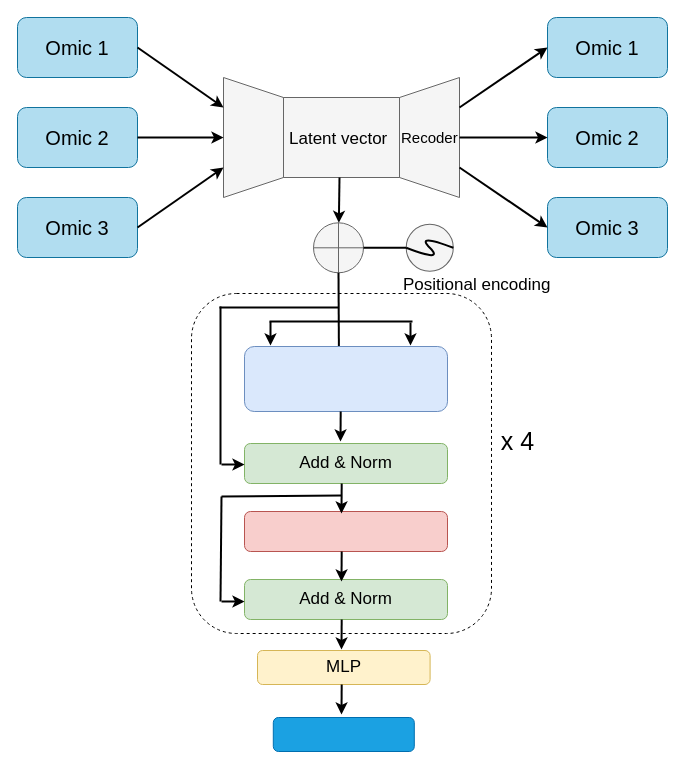
The diagram is 685 pixels wide and 769 high, and some of its shapes have lost their labels. The shapes that lost their labels are listed below. From the top down, each one's centre as x and y in pixels, then its label:
At [253,137]: "Encoder".
At [346,379]: "Multi-Head Attention".
At [346,531]: "Feed Forward".
At [343,734]: "Class（%）".
